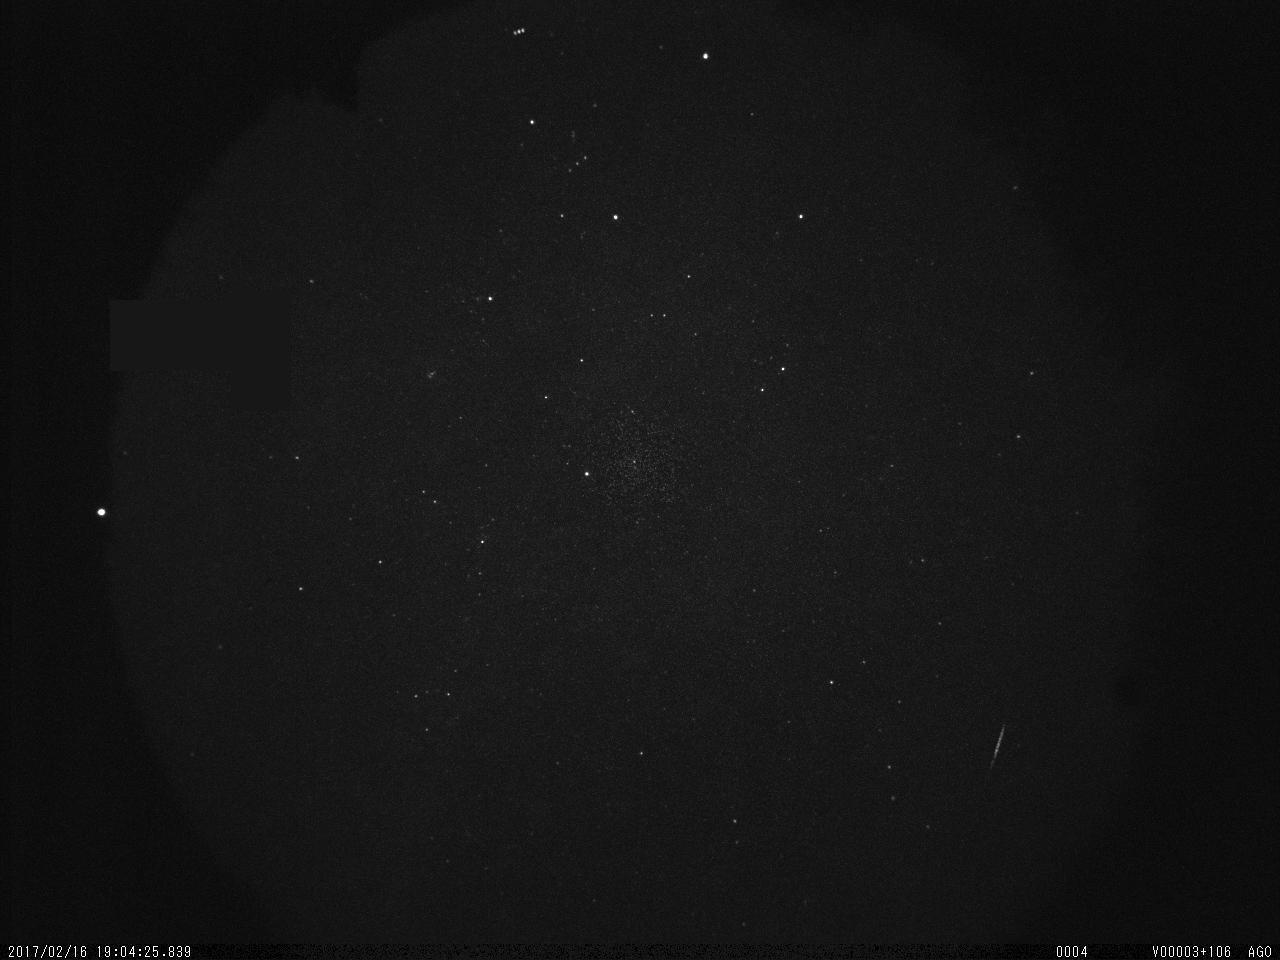meteor: (979, 710, 1021, 782)
